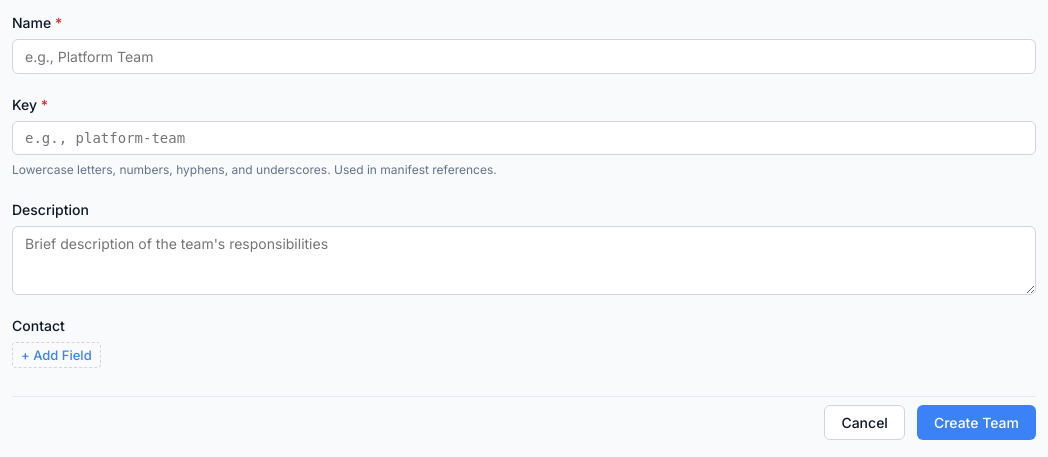
TeamForm › validates invalid key format
This screenshot has width=1048, height=457.
Type "Test" into the field labelled "Name *" at (524, 56), box [12,39,1036,74]
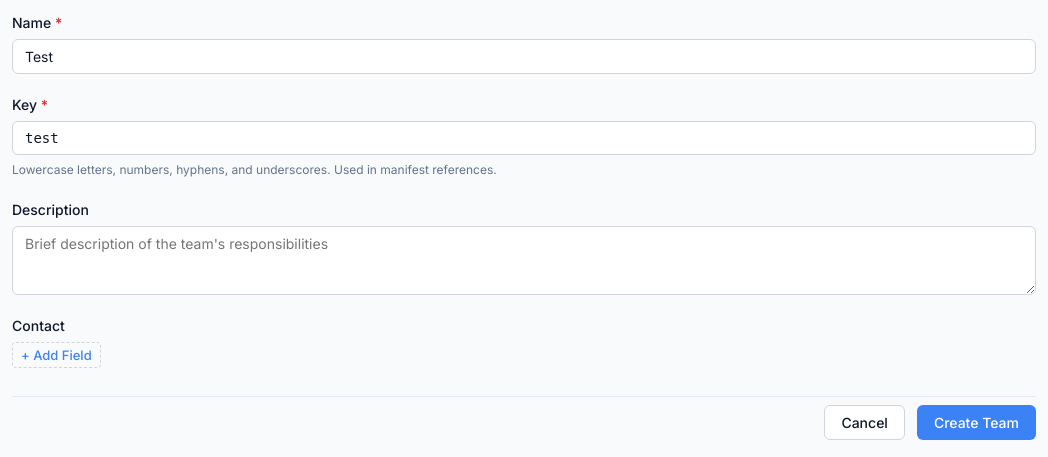
Replace the text in the field labelled "Key *" with "-invalid" at (524, 138), box [12,121,1036,155]
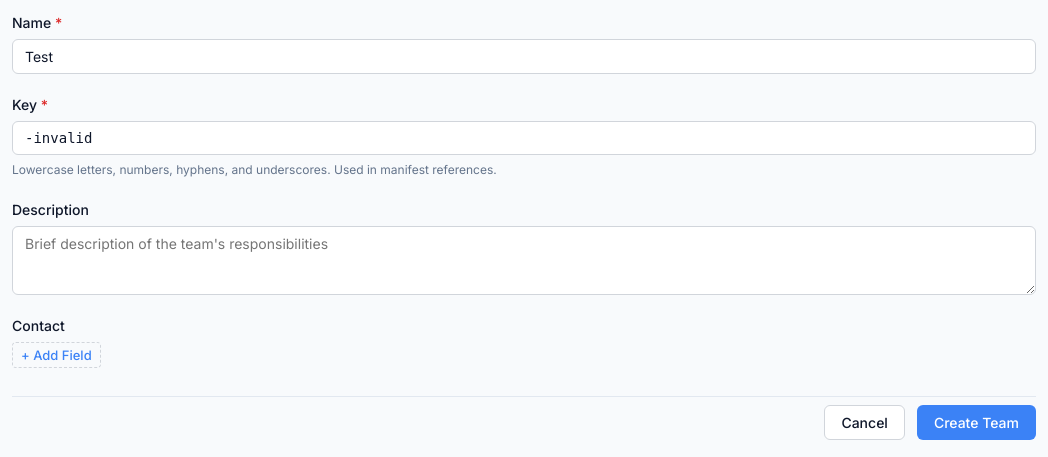
Click the button "Create Team" at (976, 422), box [917,405,1036,440]
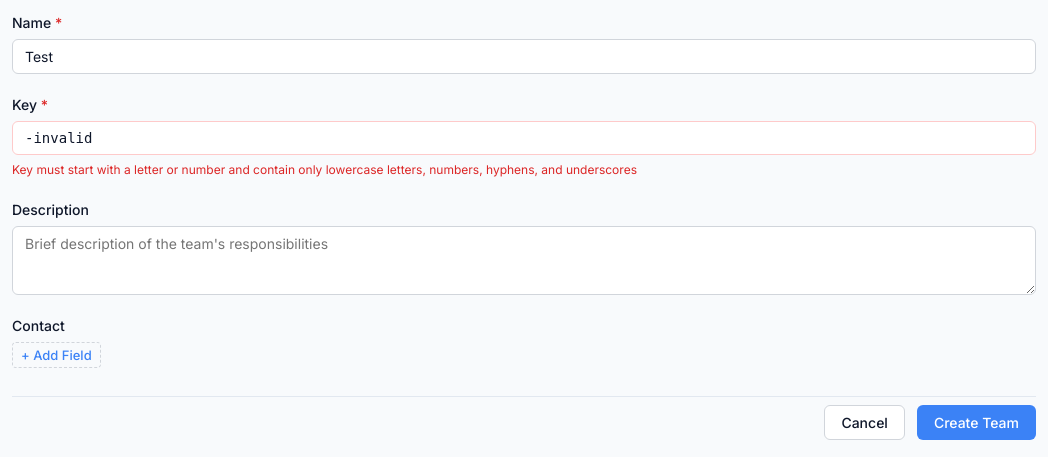
Expected: the text "Key must start with a letter or number" is shown, [12,162,637,177]
